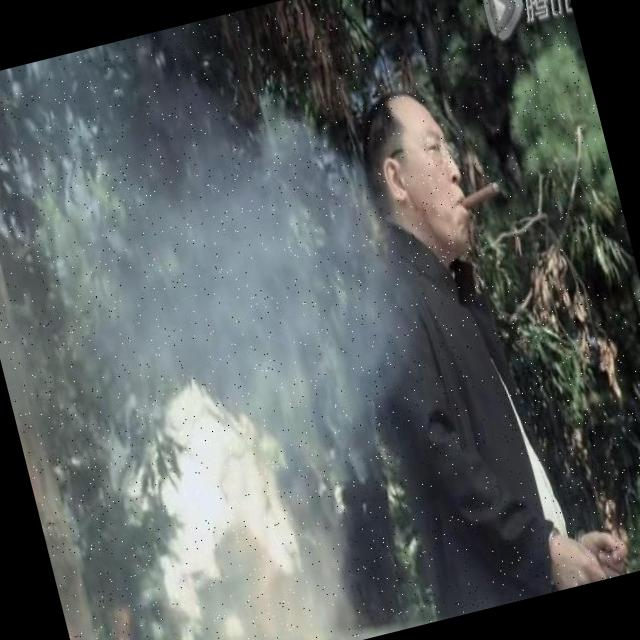Smoke: (0, 140, 466, 640)
